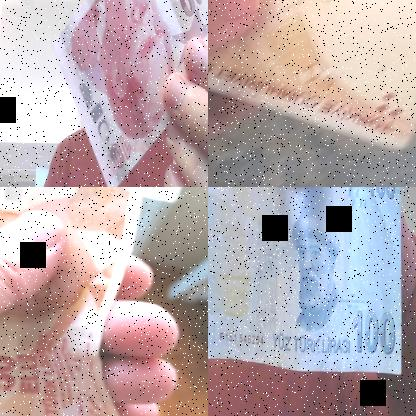5 TL: (52, 0, 207, 186)
